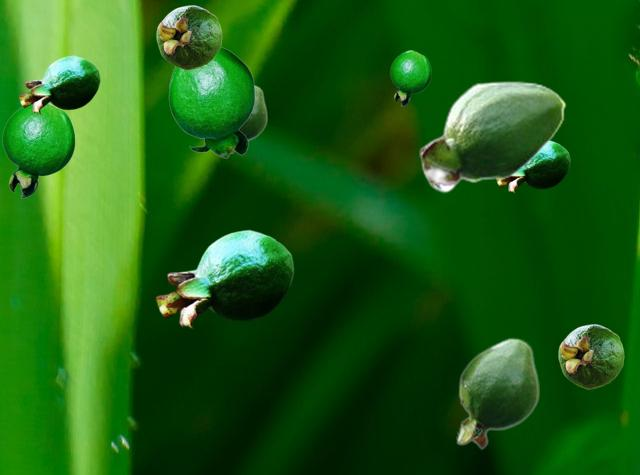guava: (419, 80, 565, 192), (155, 229, 293, 328), (168, 46, 254, 157), (456, 337, 538, 449), (2, 103, 74, 197), (18, 55, 99, 113), (558, 324, 623, 388), (156, 5, 221, 69), (496, 140, 569, 192), (232, 84, 266, 153), (390, 50, 430, 105)
